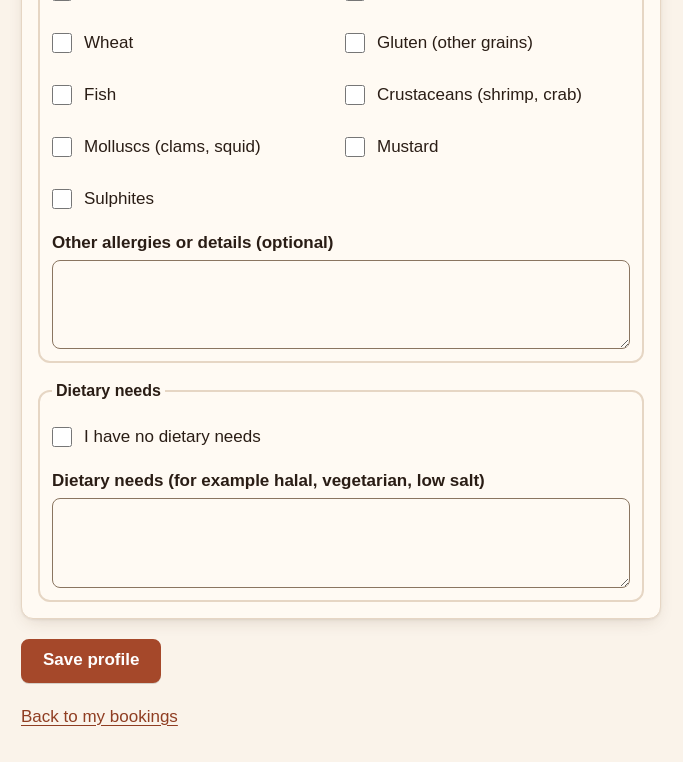
Test: SavedIntakeView › refuses a blank form in the browser, with an alert and focus, and sends nothing
(page scrolled)
Click the button "Save profile".
click(91, 661)  # box [21,639,161,683]
(page scrolled)
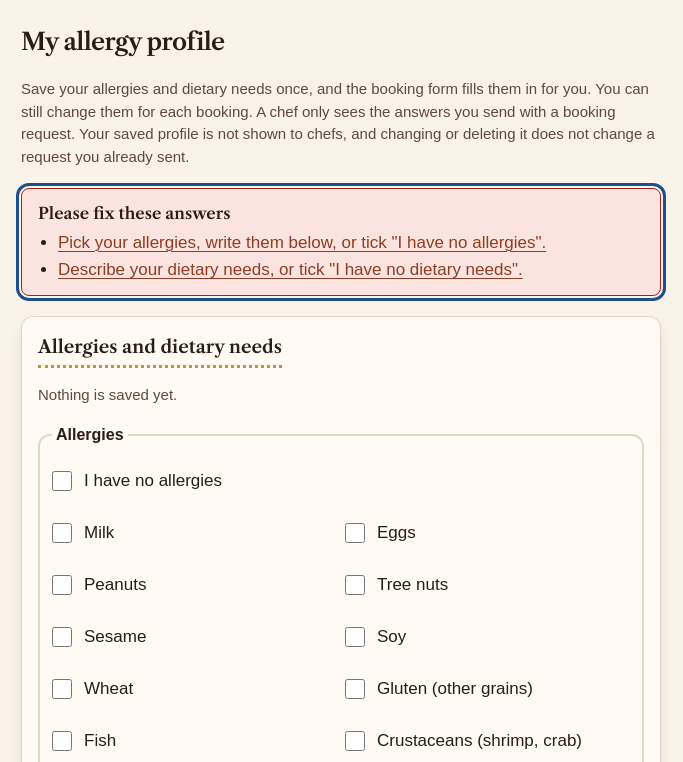
expect the message is shown: met, box [21,188,661,296]
